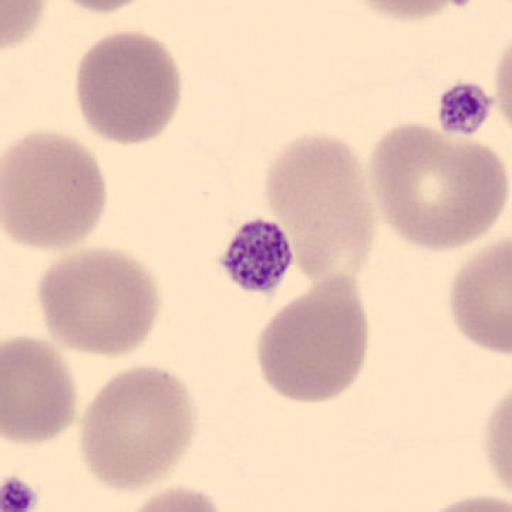Platelet: (216, 215, 296, 296), (434, 78, 496, 138)
RBC: (367, 119, 508, 255), (264, 130, 378, 282), (78, 362, 196, 494), (254, 272, 370, 406), (36, 245, 162, 359), (2, 129, 109, 253), (73, 28, 182, 147), (2, 334, 78, 446), (448, 237, 512, 357), (480, 390, 512, 502), (339, 0, 482, 23), (115, 484, 231, 512), (0, 0, 48, 51), (490, 35, 512, 141), (493, 46, 512, 135), (52, 0, 154, 16), (416, 495, 512, 512)
